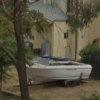Boat: (17, 47, 100, 92)
